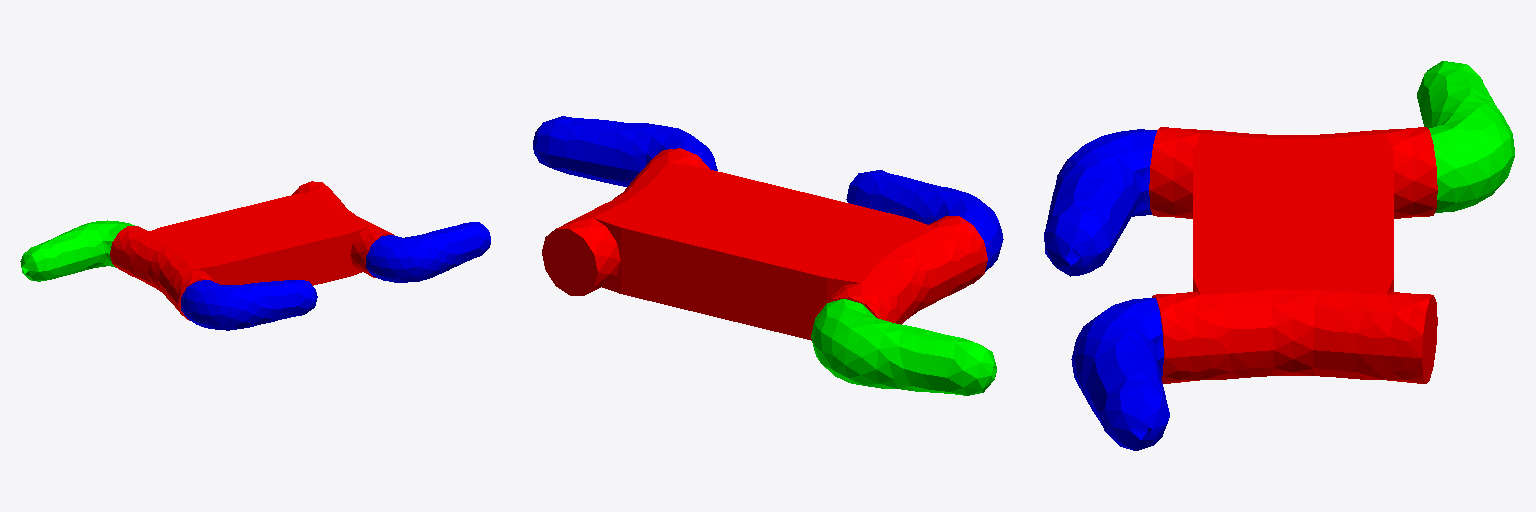
URDF robot description (robot):
<?xml version='1.0' encoding='UTF-8'?>
<robot name="robot">
  <link name="body">
    <inertial>
      <origin xyz="0.0 0.0 0.0" rpy="0.0 0.0 0.0"/>
      <mass value="1.5665020311623215"/>
      <inertia ixx="0.005477938308348608" ixy="6.123752902270894e-07" ixz="-3.265686826018712e-08" iyy="0.019944211589765858" iyz="-2.4884903377572354e-08" izz="0.024048066912883848"/>
    </inertial>
    <visual>
      <origin xyz="0.0 0.0 0.0" rpy="0.0 0.0 0.0"/>
      <geometry>
        <mesh filename="mesh/body.obj"/>
      </geometry>
      <material name="#ff0000ff">
        <color rgba="1 0 0 1"/>
      </material>
    </visual>
    <collision>
      <origin xyz="0.0 0.0 0.0" rpy="0.0 0.0 0.0"/>
      <geometry>
        <mesh filename="mesh/body.obj"/>
      </geometry>
    </collision>
  </link>
  <link name="leg_0">
    <inertial>
      <origin xyz="0.0 0.0 0.0" rpy="0.0 0.0 0.0"/>
      <mass value="0.16367238574463583"/>
      <inertia ixx="0.00041044527294799966" ixy="-3.958669715673647e-05" ixz="6.359176254884208e-08" iyy="8.266255855721674e-05" iyz="-5.7025743561705324e-08" izz="0.0004175782293150582"/>
    </inertial>
    <visual>
      <origin xyz="0.0 0.0 0.0" rpy="0.0 0.0 0.0"/>
      <geometry>
        <mesh filename="mesh/leg_0.obj"/>
      </geometry>
      <material name="#00ff00ff">
        <color rgba="0 1 0 1"/>
      </material>
    </visual>
    <collision>
      <origin xyz="0.0 0.0 0.0" rpy="0.0 0.0 0.0"/>
      <geometry>
        <mesh filename="mesh/leg_0.obj"/>
      </geometry>
    </collision>
  </link>
  <link name="leg_1">
    <inertial>
      <origin xyz="0.0 0.0 0.0" rpy="0.0 0.0 0.0"/>
      <mass value="0.16367238574463583"/>
      <inertia ixx="0.00041044527294799966" ixy="-3.958669715673647e-05" ixz="6.359176254884208e-08" iyy="8.266255855721674e-05" iyz="-5.7025743561705324e-08" izz="0.0004175782293150582"/>
    </inertial>
    <visual>
      <origin xyz="0.0 0.0 0.0" rpy="0.0 0.0 0.0"/>
      <geometry>
        <mesh filename="mesh/leg_1.obj"/>
      </geometry>
      <material name="#00ff00ff">
        <color rgba="0 1 0 1"/>
      </material>
    </visual>
    <collision>
      <origin xyz="0.0 0.0 0.0" rpy="0.0 0.0 0.0"/>
      <geometry>
        <mesh filename="mesh/leg_1.obj"/>
      </geometry>
    </collision>
  </link>
  <link name="leg_2">
    <inertial>
      <origin xyz="0.0 0.0 0.0" rpy="0.0 0.0 0.0"/>
      <mass value="0.16367238574463583"/>
      <inertia ixx="0.00041044527294799966" ixy="-3.958669715673647e-05" ixz="6.359176254884208e-08" iyy="8.266255855721674e-05" iyz="-5.7025743561705324e-08" izz="0.0004175782293150582"/>
    </inertial>
    <visual>
      <origin xyz="0.0 0.0 0.0" rpy="0.0 0.0 0.0"/>
      <geometry>
        <mesh filename="mesh/leg_2.obj"/>
      </geometry>
      <material name="#0000ffff">
        <color rgba="0 0 1 1"/>
      </material>
    </visual>
    <collision>
      <origin xyz="0.0 0.0 0.0" rpy="0.0 0.0 0.0"/>
      <geometry>
        <mesh filename="mesh/leg_2.obj"/>
      </geometry>
    </collision>
  </link>
  <link name="leg_3">
    <inertial>
      <origin xyz="0.0 0.0 0.0" rpy="0.0 0.0 0.0"/>
      <mass value="0.16367238574463583"/>
      <inertia ixx="0.00041044527294799966" ixy="-3.958669715673647e-05" ixz="6.359176254884208e-08" iyy="8.266255855721674e-05" iyz="-5.7025743561705324e-08" izz="0.0004175782293150582"/>
    </inertial>
    <visual>
      <origin xyz="0.0 0.0 0.0" rpy="0.0 0.0 0.0"/>
      <geometry>
        <mesh filename="mesh/leg_3.obj"/>
      </geometry>
      <material name="#0000ffff">
        <color rgba="0 0 1 1"/>
      </material>
    </visual>
    <collision>
      <origin xyz="0.0 0.0 0.0" rpy="0.0 0.0 0.0"/>
      <geometry>
        <mesh filename="mesh/leg_3.obj"/>
      </geometry>
    </collision>
  </link>
  <joint name="body,leg_0" type="continuous">
    <origin xyz="0.14704211705138975 0.10158034379941197 0.0" rpy="0.0 0.0 1.404574493271627"/>
    <parent link="body"/>
    <child link="leg_0"/>
    <axis xyz="1.0 0.0 0.0"/>
    <limit effort="5" velocity="51"/>
  </joint>
  <joint name="body,leg_1" type="continuous">
    <origin xyz="-0.14704211705138975 0.10158034379941197 0.0" rpy="0.0 0.0 1.737018160318166"/>
    <parent link="body"/>
    <child link="leg_1"/>
    <axis xyz="1.0 0.0 0.0"/>
    <limit effort="5" velocity="51"/>
  </joint>
  <joint name="body,leg_2" type="continuous">
    <origin xyz="-0.14704211705138975 -0.10158034379941197 0.0" rpy="0.0 0.0 -1.737018160318166"/>
    <parent link="body"/>
    <child link="leg_2"/>
    <axis xyz="1.0 0.0 0.0"/>
    <limit effort="5" velocity="51"/>
  </joint>
  <joint name="body,leg_3" type="continuous">
    <origin xyz="0.14704211705138975 -0.10158034379941197 0.0" rpy="0.0 0.0 -1.404574493271627"/>
    <parent link="body"/>
    <child link="leg_3"/>
    <axis xyz="1.0 0.0 0.0"/>
    <limit effort="5" velocity="51"/>
  </joint>
</robot>

--- Render facts (derived) ---
Views: 3 orthographic renders of the robot side by side, from view 1: azimuth 30°, elevation 25°; view 2: azimuth 150°, elevation 25°; view 3: azimuth 270°, elevation 25°.
Robot: robot — 5 links, 4 joints (4 continuous); root link body; default pose: all joints at 0.
Visible links, largest first — view 1: body, leg_2, leg_3, leg_1; view 2: body, leg_1, leg_3, leg_2; view 3: body, leg_2, leg_3, leg_1.
Boxes of the visible links, <box> form: body: <box>110,181,394,320</box>; leg_2: <box>181,280,317,330</box>; leg_3: <box>366,222,490,282</box>; leg_1: <box>20,220,134,281</box>; body: <box>542,148,987,340</box>; leg_1: <box>811,299,996,395</box>; leg_3: <box>533,116,717,186</box>; leg_2: <box>846,170,1003,271</box>; body: <box>1149,127,1437,383</box>; leg_2: <box>1044,129,1156,276</box>; leg_3: <box>1071,298,1169,450</box>; leg_1: <box>1417,61,1514,212</box>.
Size in the robot's own frame: 0.6187 by 0.3502 by 0.0672 metres.
Meshes: 5 distinct files referenced, 4 mesh visuals loaded (4 OBJ); not drawn: 1 (reference not matched to a file when rendering).